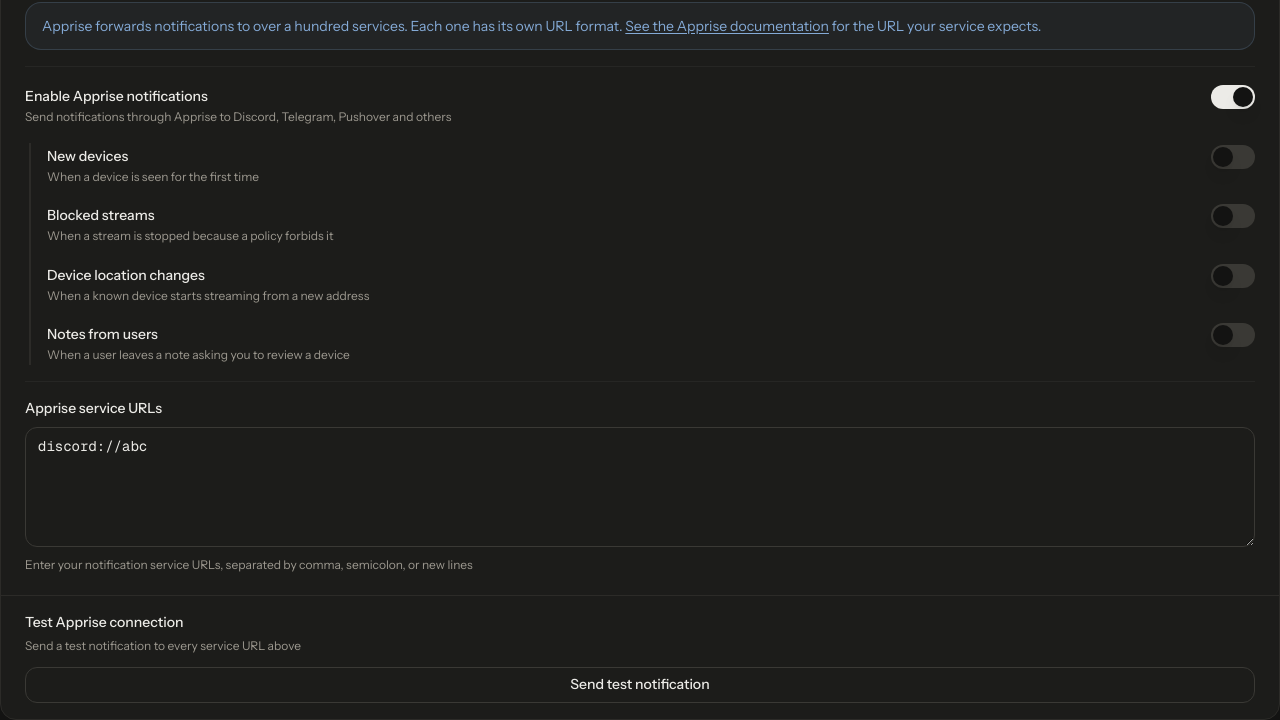
it: AppriseSettings › sending a test notification › reports success
The width and height of the screenshot is (1280, 720).
(page scrolled)
What coordinates should you click on to do the following:
click the button "Send test notification"
I would click on:
 (640, 685)
Its box is [25,667,1255,703].
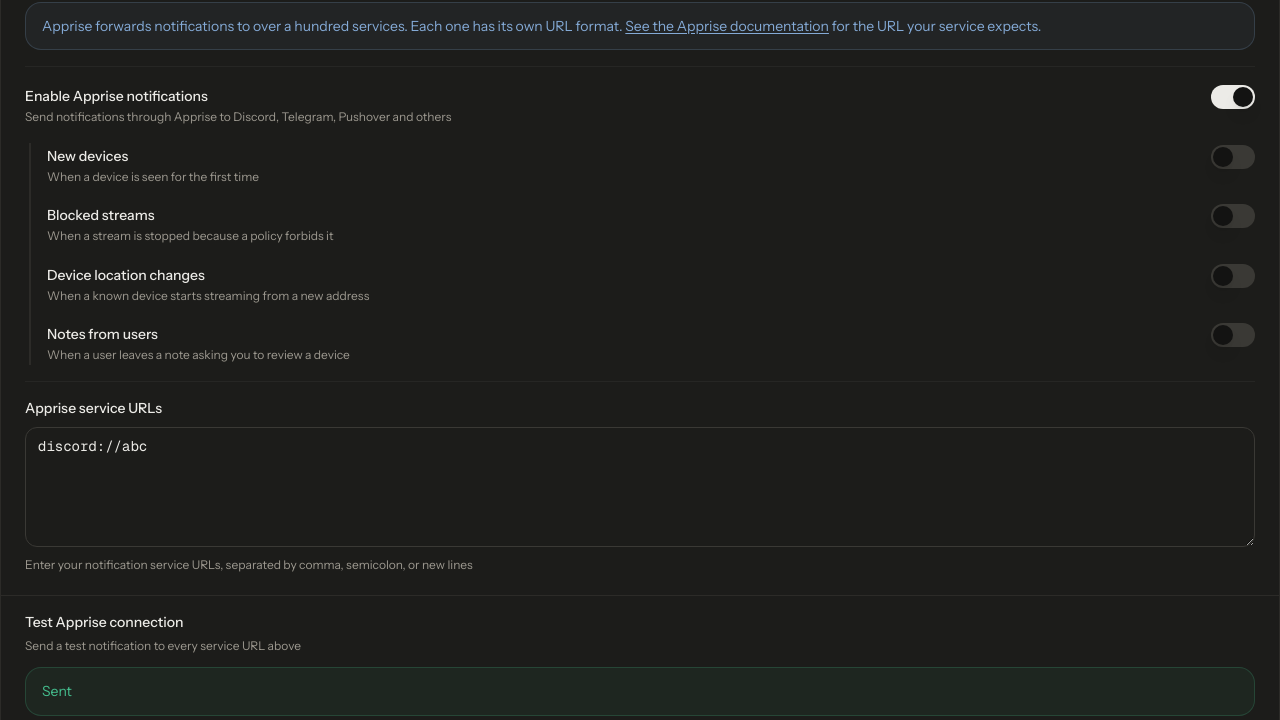
expect the text "Sent" is shown: met, box [42,682,72,700]
